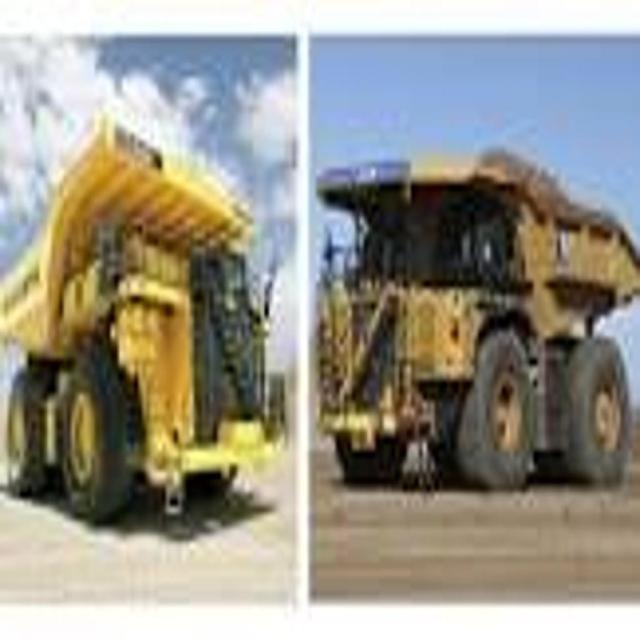dump_truck: (3, 113, 287, 572), (313, 143, 640, 512)
